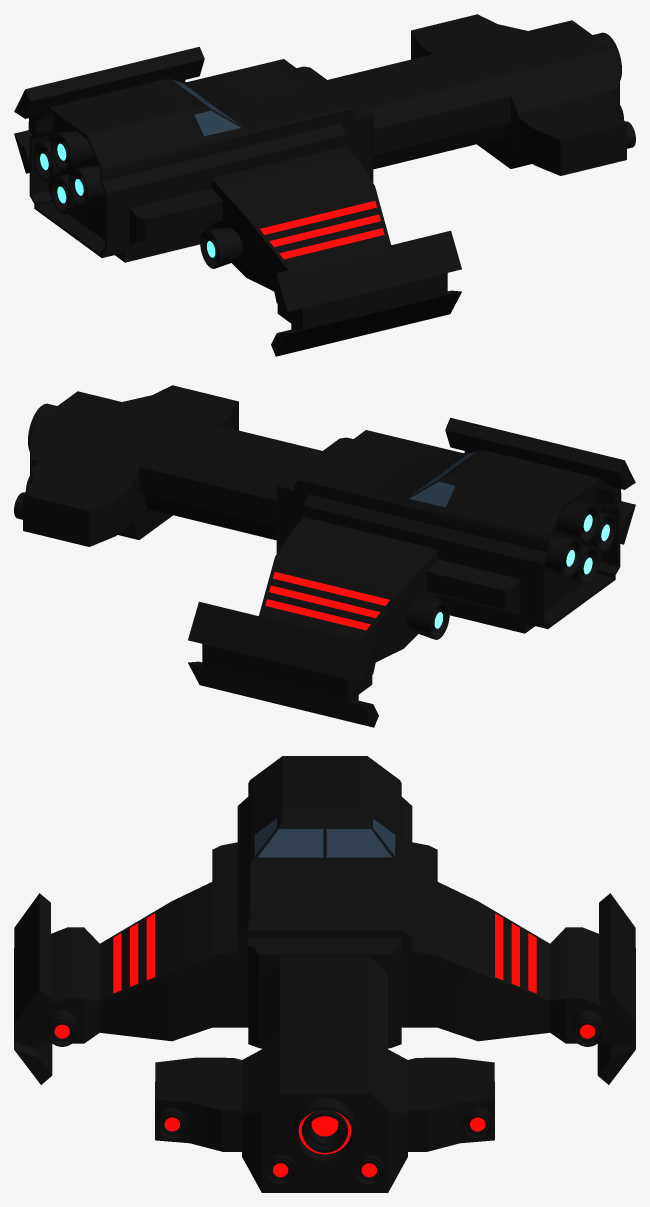
The model's file is battleship.glb.
3 renders of one model, top to bottom at view 1: azimuth 30°, elevation 25°; view 2: azimuth 150°, elevation 25°; view 3: azimuth 270°, elevation 25°, orthographic. The views are drawn at different scales.
Visible parts, largest first — view 1: battleship; view 2: battleship; view 3: battleship.
Part boxes in pixels (x1,y1,x2,y2): battleship: [14, 14, 635, 356]; battleship: [14, 385, 635, 727]; battleship: [14, 756, 635, 1192].
Bounding box in the file's own units: 38.23 × 10.96 × 33.11.
